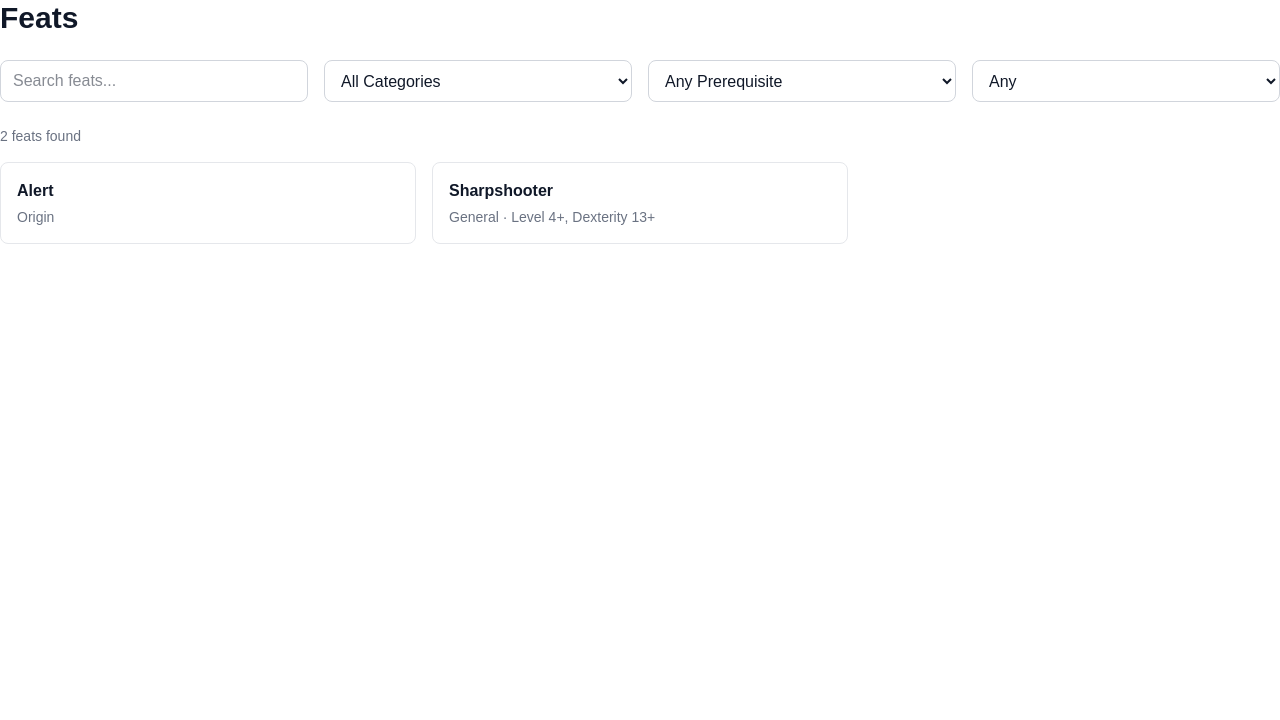
it: FeatListPage › detail modal › fetches and opens the detail when a feat card is clicked
The image size is (1280, 720).
Click the button "Alert Origin": [35, 190] box [0,162,416,244]
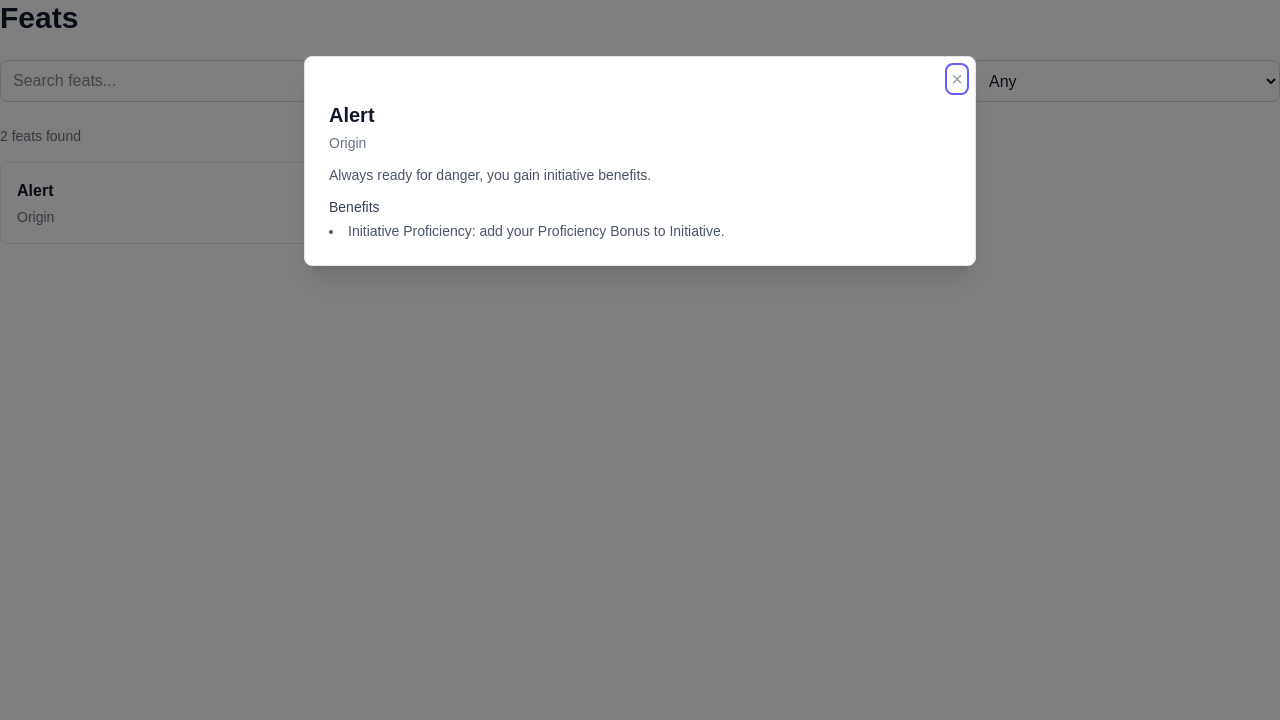
Result: the text "Always ready for danger, you gain initiative benefits." is shown at [329,167,651,183]
Result: the list item "Initiative Proficiency" is shown at [348,223,725,239]
